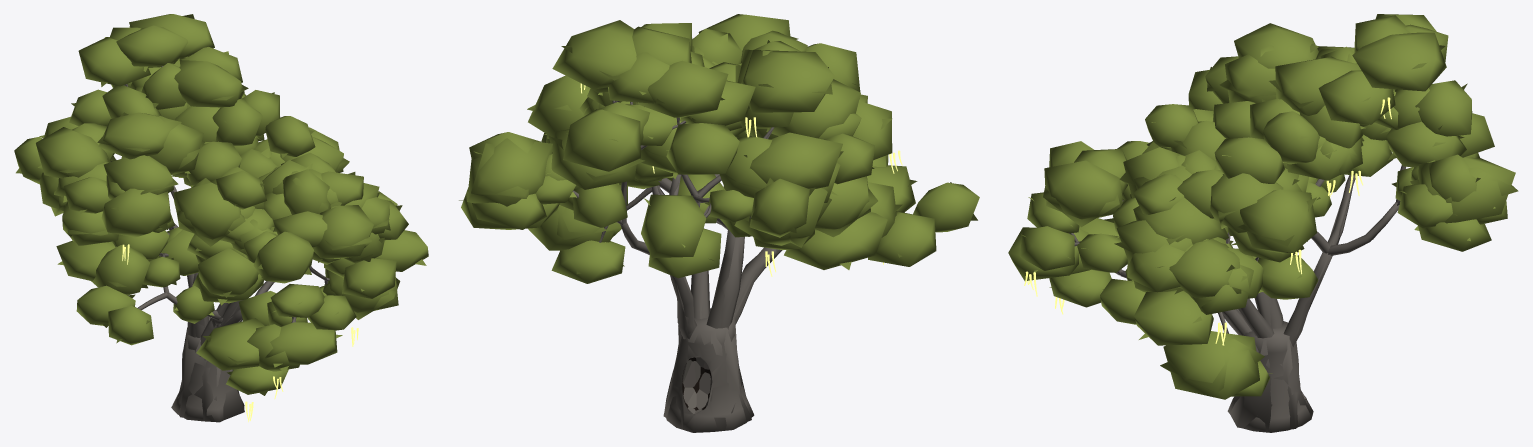
File: scrub_oak_6.glb
The picture shows the model from 3 angles, left to right: view 1: azimuth 30°, elevation 25°; view 2: azimuth 150°, elevation 25°; view 3: azimuth 270°, elevation 25°; orthographic projection. The views are drawn at different scales.
Visible parts, largest first — view 1: ScrubOak_Far_Foliage, ScrubOak_Foliage_104_Leaves, ScrubOak_Foliage_67_Leaves, ScrubOak_Foliage_73_Leaves, ScrubOak_Foliage_66_Leaves, ScrubOak_Foliage_117_Leaves, ScrubOak_Far_Bark, ScrubOak_Foliage_113_Leaves, ScrubOak_Foliage_130_Leaves, ScrubOak_Foliage_111_Leaves, ScrubOak_LimbWood_Bole, ScrubOak_Foliage_129_Leaves (+56 smaller); view 2: ScrubOak_Far_Bark, ScrubOak_Foliage_66_Leaves, ScrubOak_LimbWood_Bole, ScrubOak_Foliage_47_Leaves, ScrubOak_Foliage_77_Leaves, ScrubOak_Far_Foliage, ScrubOak_Foliage_54_Leaves, ScrubOak_Foliage_67_Leaves, ScrubOak_Foliage_60_Leaves, ScrubOak_Foliage_48_Leaves, ScrubOak_Foliage_49_Leaves, ScrubOak_Foliage_101_Leaves (+40 smaller); view 3: ScrubOak_Far_Foliage, ScrubOak_Foliage_47_Leaves, ScrubOak_Foliage_140_Leaves, ScrubOak_Far_Bark, ScrubOak_Foliage_98_Leaves, ScrubOak_Foliage_113_Leaves, ScrubOak_Foliage_138_Leaves, ScrubOak_LimbWood_Bole, ScrubOak_Foliage_23_Leaves, ScrubOak_Foliage_43_Leaves, ScrubOak_Foliage_73_Leaves, ScrubOak_Foliage_54_Leaves (+47 smaller).
Part boxes in pixels (x1,y1,x2,y2): ScrubOak_Far_Foliage: (16, 14, 426, 395); ScrubOak_Foliage_104_Leaves: (101, 188, 171, 237); ScrubOak_Foliage_67_Leaves: (36, 127, 109, 178); ScrubOak_Foliage_73_Leaves: (174, 60, 244, 107); ScrubOak_Foliage_66_Leaves: (98, 112, 181, 159); ScrubOak_Foliage_117_Leaves: (173, 182, 240, 239); ScrubOak_Far_Bark: (124, 66, 329, 421); ScrubOak_Foliage_113_Leaves: (312, 205, 373, 258); ScrubOak_Foliage_130_Leaves: (196, 318, 264, 370); ScrubOak_Foliage_111_Leaves: (253, 231, 313, 283); ScrubOak_LimbWood_Bole: (171, 330, 244, 422); ScrubOak_Foliage_129_Leaves: (263, 322, 337, 364); ScrubOak_Far_Bark: (601, 100, 781, 430); ScrubOak_Foliage_66_Leaves: (741, 50, 834, 112); ScrubOak_LimbWood_Bole: (664, 308, 754, 432); ScrubOak_Foliage_47_Leaves: (552, 20, 636, 89); ScrubOak_Foliage_77_Leaves: (563, 109, 640, 171); ScrubOak_Far_Foliage: (459, 33, 977, 274); ScrubOak_Foliage_54_Leaves: (467, 138, 552, 206); ScrubOak_Foliage_67_Leaves: (750, 132, 842, 188); ScrubOak_Foliage_60_Leaves: (641, 194, 706, 257); ScrubOak_Foliage_48_Leaves: (637, 60, 728, 117); ScrubOak_Foliage_49_Leaves: (666, 123, 739, 174); ScrubOak_Foliage_101_Leaves: (784, 212, 887, 269); ScrubOak_Far_Foliage: (1022, 44, 1518, 392); ScrubOak_Foliage_47_Leaves: (1352, 32, 1446, 91); ScrubOak_Foliage_140_Leaves: (1163, 331, 1259, 399); ScrubOak_Far_Bark: (1069, 165, 1401, 432); ScrubOak_Foliage_98_Leaves: (1240, 189, 1316, 253); ScrubOak_Foliage_113_Leaves: (1044, 160, 1122, 219); ScrubOak_Foliage_138_Leaves: (1134, 290, 1213, 345); ScrubOak_LimbWood_Bole: (1227, 321, 1313, 432); ScrubOak_Foliage_23_Leaves: (1169, 239, 1241, 298); ScrubOak_Foliage_43_Leaves: (1318, 70, 1395, 124); ScrubOak_Foliage_73_Leaves: (1275, 56, 1361, 115); ScrubOak_Foliage_54_Leaves: (1418, 157, 1515, 223).
Size of the model in its own units: 3.67 by 3.71 by 4.38.
